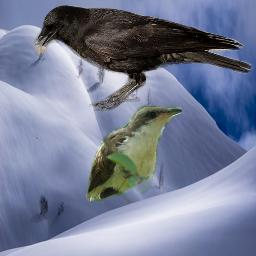Crow: (31, 4, 252, 111)
Cuckoo: (85, 105, 182, 203)
